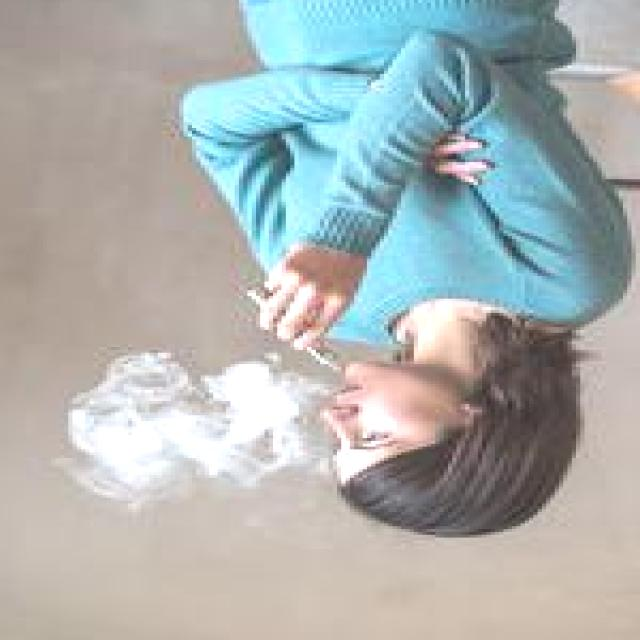smoke: (222, 287, 380, 418)
